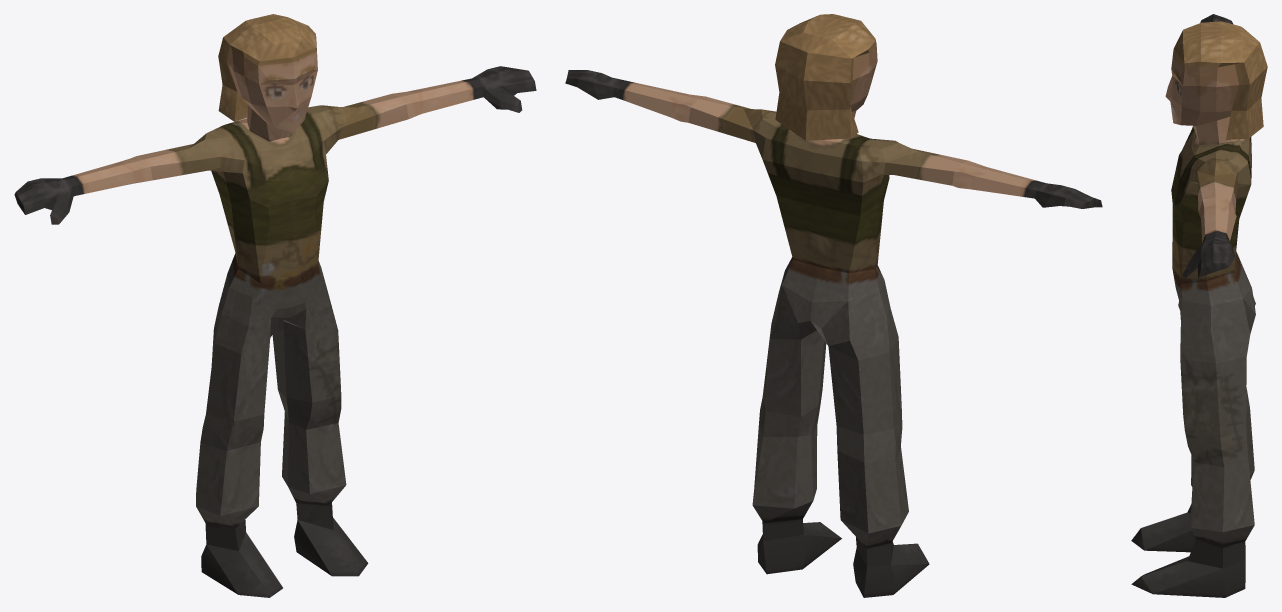
Rendered from SK_ShopKeeper (1).glb.
3 renders of one model, left to right at view 1: azimuth 30°, elevation 25°; view 2: azimuth 150°, elevation 25°; view 3: azimuth 270°, elevation 25°, orthographic. The views are drawn at different scales.
Visible parts, largest first — view 1: SK_ShopKeeper; view 2: SK_ShopKeeper; view 3: SK_ShopKeeper.
Part boxes in pixels (x1,y1,x2,y2): SK_ShopKeeper: [14, 14, 536, 597]; SK_ShopKeeper: [565, 14, 1102, 597]; SK_ShopKeeper: [1131, 14, 1267, 597].
Bounding box in the file's own units: 0.4299 × 0.4304 × 0.0994.
Materials: 1 (1 with a texture image).
